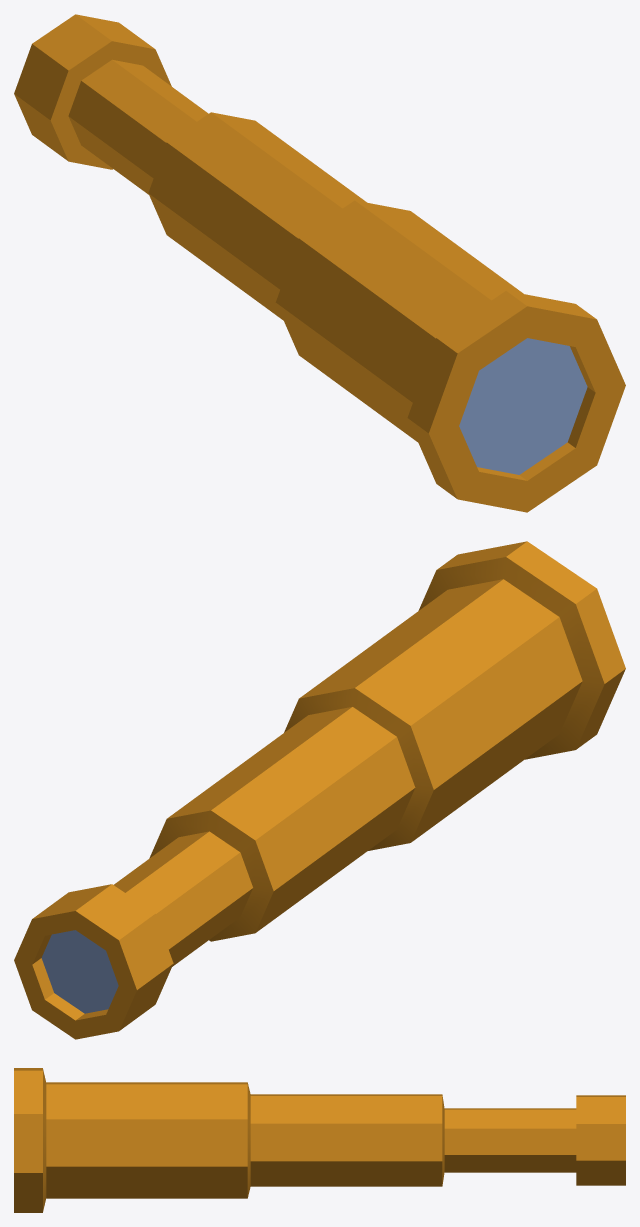
Rendered from Telescope_01.fbx.
The picture shows the model from 3 angles, top to bottom: view 1: azimuth 30°, elevation 25°; view 2: azimuth 150°, elevation 25°; view 3: azimuth 270°, elevation 25°; orthographic projection. The views are drawn at different scales.
Visible parts, largest first — view 1: Telescope_01_LOD0; view 2: Telescope_01_LOD0; view 3: Telescope_01_LOD0.
Part boxes in pixels (x1=…): Telescope_01_LOD0: x1=14, y1=14, x2=625, y2=512; Telescope_01_LOD0: x1=14, y1=541, x2=625, y2=1039; Telescope_01_LOD0: x1=14, y1=1068, x2=625, y2=1212.
Size of what is drawn, in the model's own units: 0.1496 by 0.1496 by 0.5937.
